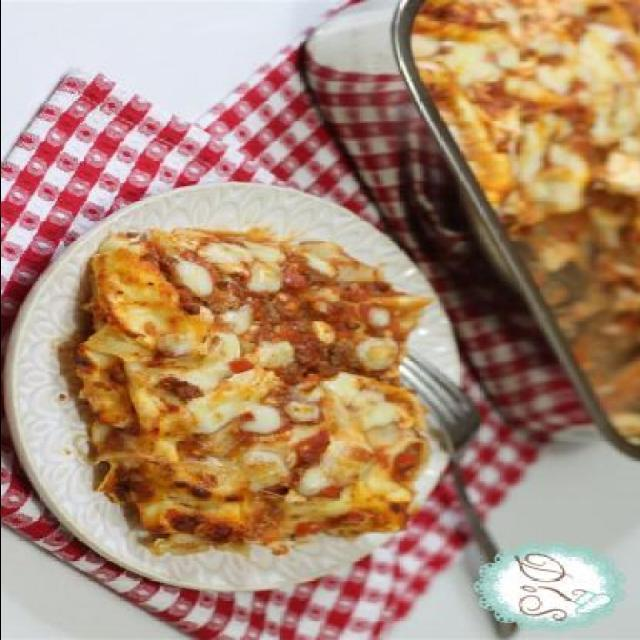Pasta al ragu: (102, 219, 436, 573)
